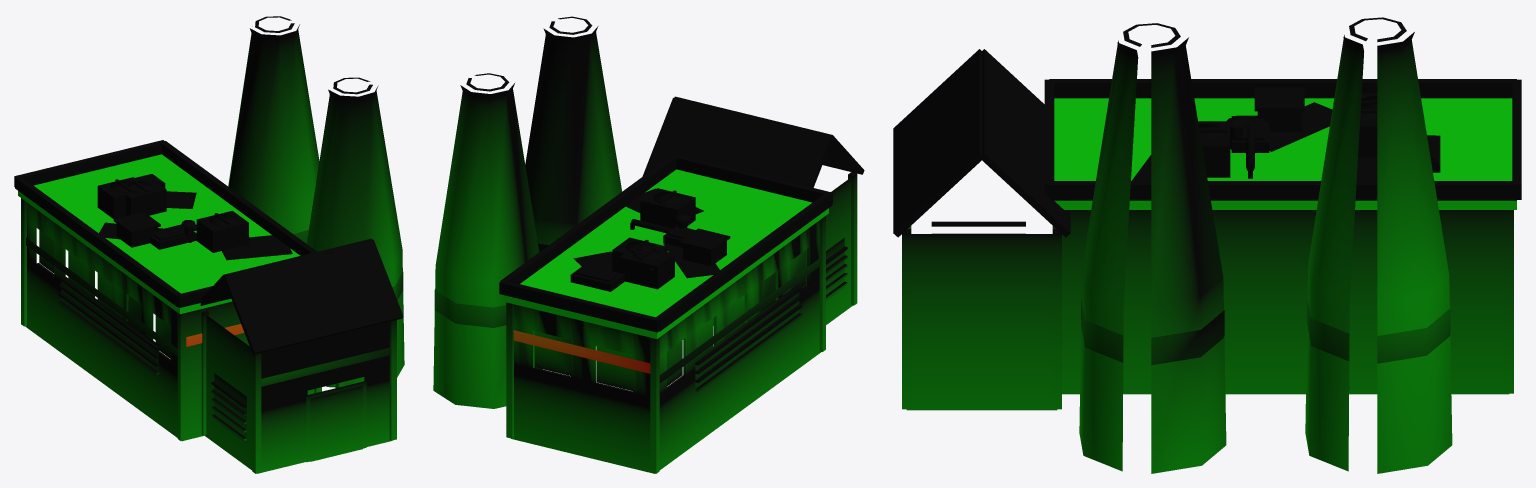
Rendered from processingplant.glb.
3 renders of one model, left to right at view 1: azimuth 30°, elevation 25°; view 2: azimuth 150°, elevation 25°; view 3: azimuth 270°, elevation 25°, orthographic. The views are drawn at different scales.
Parts seen in each view (by area): view 1: lod0; view 2: lod0; view 3: lod0.
Part boxes in pixels (x1,y1,x2,y2): lod0: [14, 16, 404, 473]; lod0: [433, 16, 864, 473]; lod0: [893, 17, 1521, 473].
Size of what is drawn, in the model's own units: 13.6 by 14.52 by 20.03.
